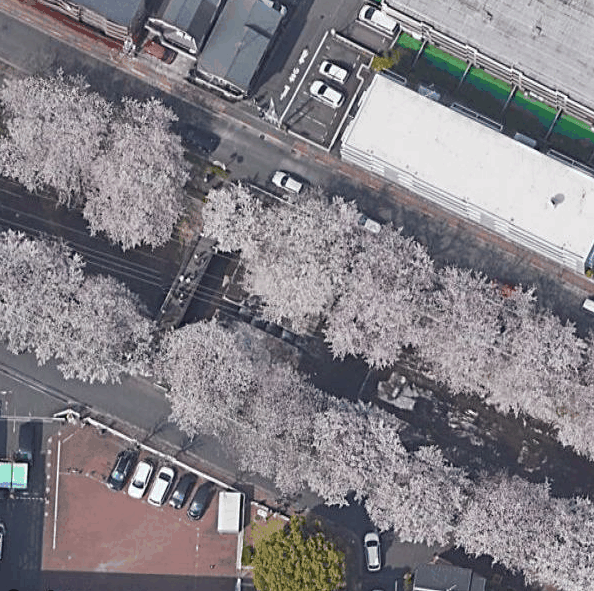flatroof: (337, 70, 593, 256), (398, 0, 593, 77)
